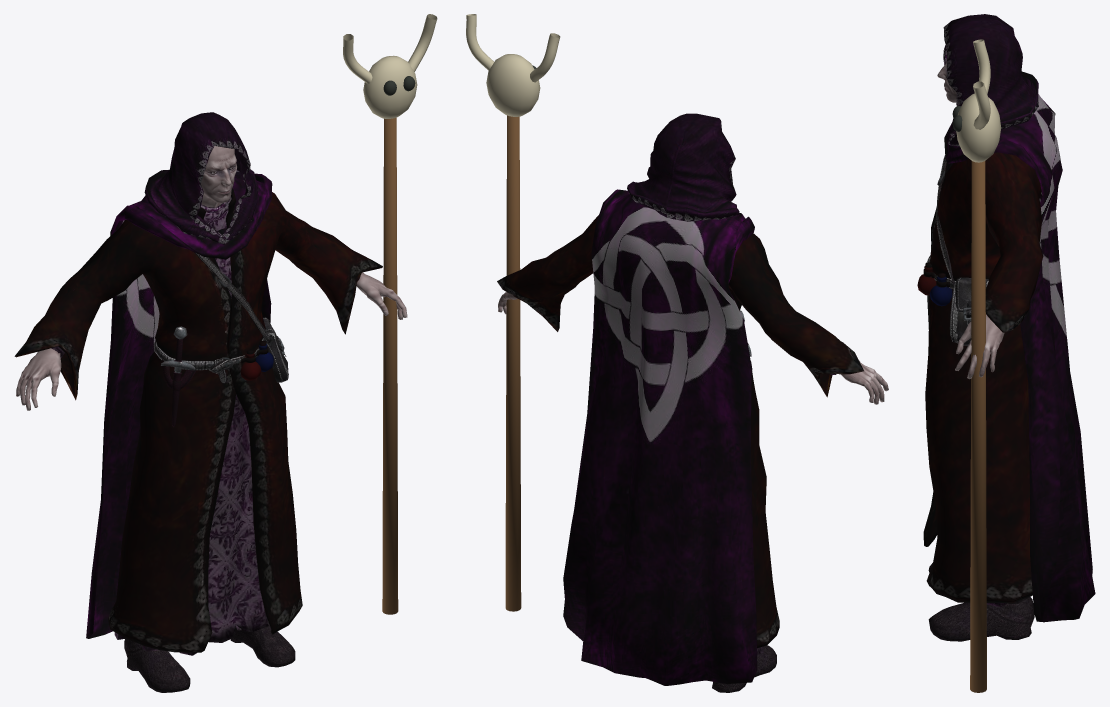
The model's file is actor-necromancer.glb.
3 views of the same model, side by side, from view 1: azimuth 30°, elevation 25°; view 2: azimuth 150°, elevation 25°; view 3: azimuth 270°, elevation 25° (orthographic). The views are drawn at different scales.
Parts seen in each view (by area): view 1: mage · posed; view 2: mage · posed; view 3: mage · posed.
Boxes of the visible parts, x1,y1,x2,y2 form: mage · posed: (14, 14, 437, 692); mage · posed: (466, 14, 888, 692); mage · posed: (917, 14, 1095, 692).
Bounding box in the file's own units: 1.58 × 2.17 × 0.5488.
Materials: 4 (1 with a texture image).
